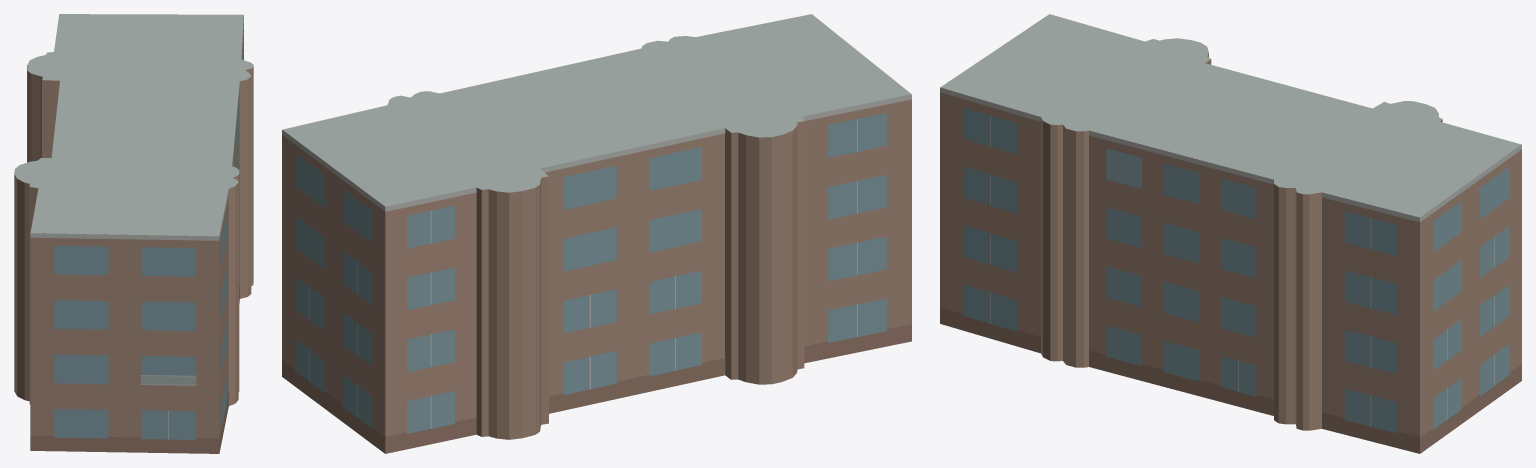
File: survey-upis-32738202.glb
3 views of the same model, side by side, from view 1: azimuth 30°, elevation 25°; view 2: azimuth 150°, elevation 25°; view 3: azimuth 270°, elevation 25° (orthographic). The views are drawn at different scales.
Visible parts, largest first — view 1: survey-upis-32738202.tmp; view 2: survey-upis-32738202.tmp; view 3: survey-upis-32738202.tmp.
Boxes of the visible parts, <box> form: survey-upis-32738202.tmp: <box>14,14,253,453</box>; survey-upis-32738202.tmp: <box>282,14,911,453</box>; survey-upis-32738202.tmp: <box>940,14,1521,453</box>.
Bounding box in the file's own units: 21.8 × 11.8 × 26.33.
